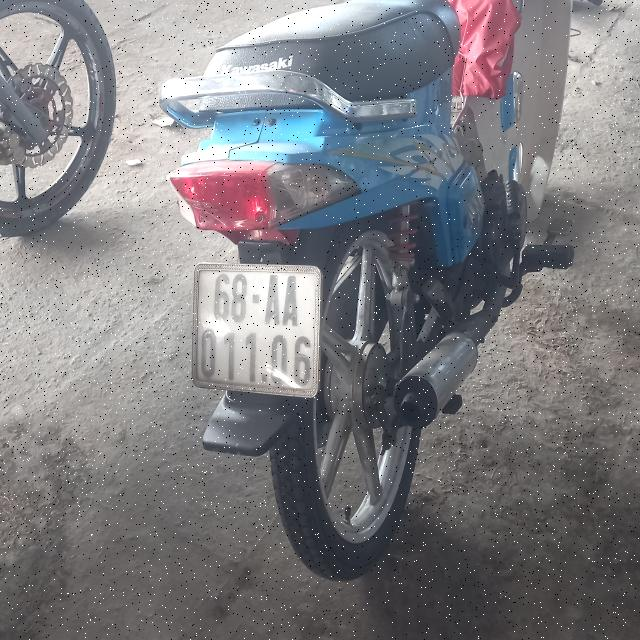0: (270, 334, 289, 384), (200, 329, 218, 378)
1: (223, 330, 235, 380), (245, 331, 256, 382)
6: (293, 335, 311, 389), (214, 273, 231, 322)
8: (231, 273, 247, 322)
A: (265, 274, 281, 325), (283, 275, 298, 327)
